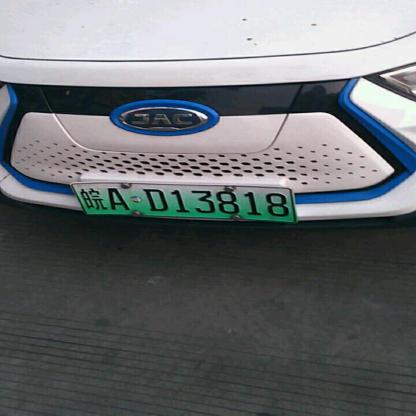lp: (72, 184, 292, 221)
